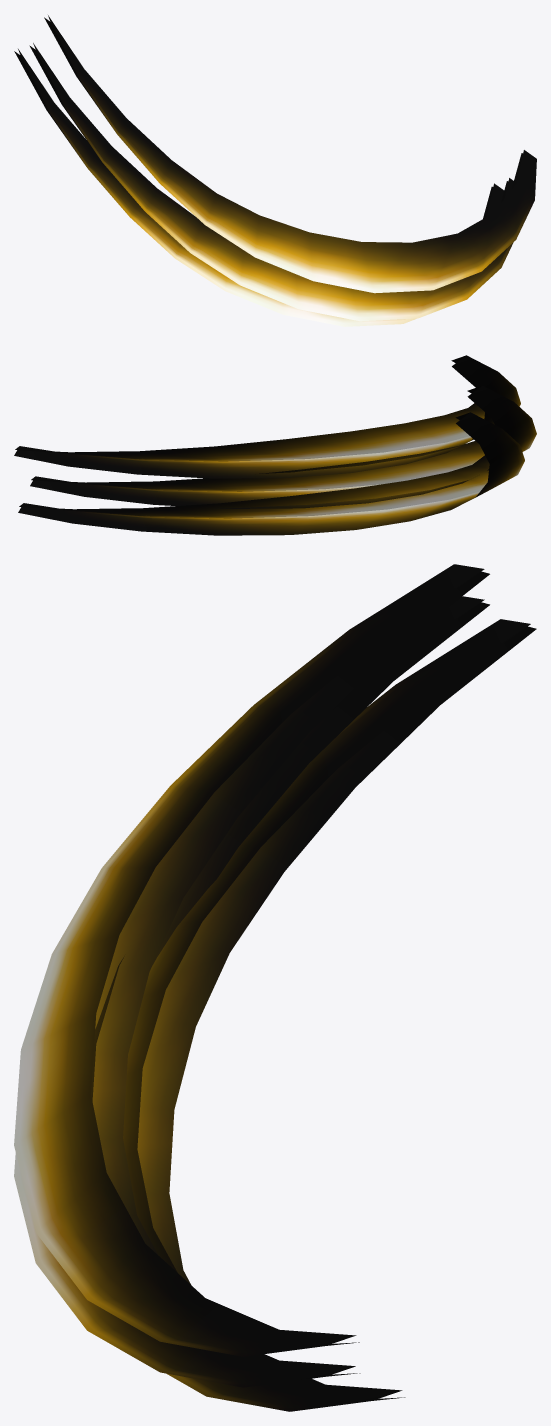
The model's file is caw_edge_1.FBX.
3 views of the same model, one above another, from view 1: azimuth 30°, elevation 25°; view 2: azimuth 150°, elevation 25°; view 3: azimuth 270°, elevation 25° (orthographic). The views are drawn at different scales.
Visible parts, largest first — view 1: caw_edge_1; view 2: caw_edge_1; view 3: caw_edge_1.
Part boxes in pixels (x1,y1,x2,y2): caw_edge_1: (14,15,536,326); caw_edge_1: (14,355,536,535); caw_edge_1: (14,564,536,1411).
Bounding box in the file's own units: 622 × 373 × 339.
1 material, 1 textured.
